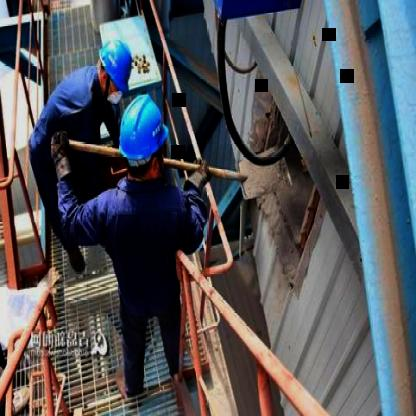helmet: (116, 89, 168, 180), (93, 28, 139, 110)
